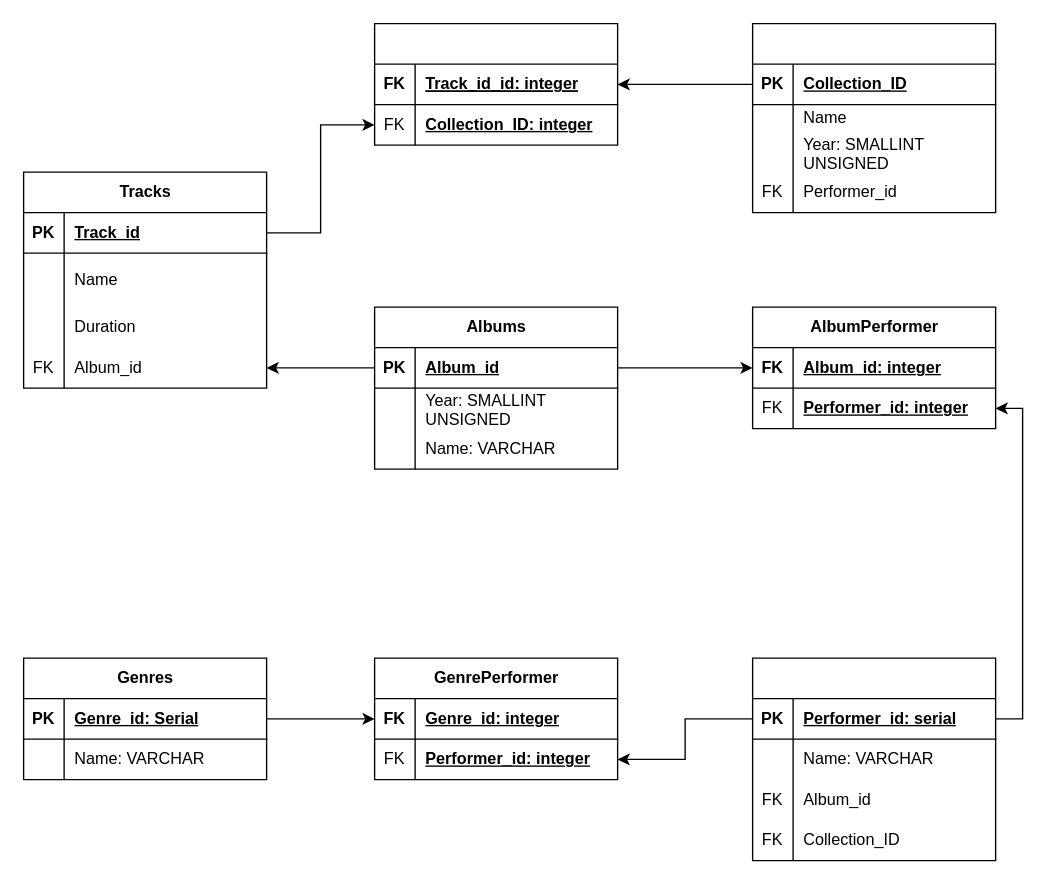
Some shapes in this 1057 by 884 pixel diagram are drawn without their labels. Here are the shapes that lost their labels. From the top down, the box of each, then its label:
(373, 22, 618, 145): TrackCollection
(751, 22, 996, 213): Collections
(751, 657, 996, 861): Performers
